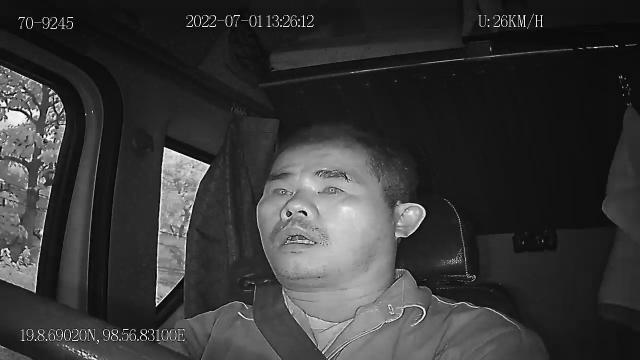SafeDriving: (308, 169, 354, 201), (264, 178, 297, 204)
Seatbelt: (254, 283, 329, 360)
